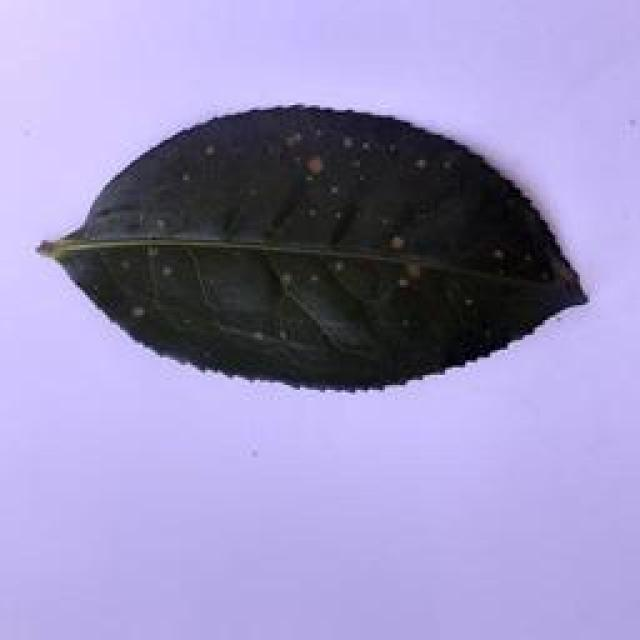Algal Leaf Spot: (35, 99, 614, 393)
